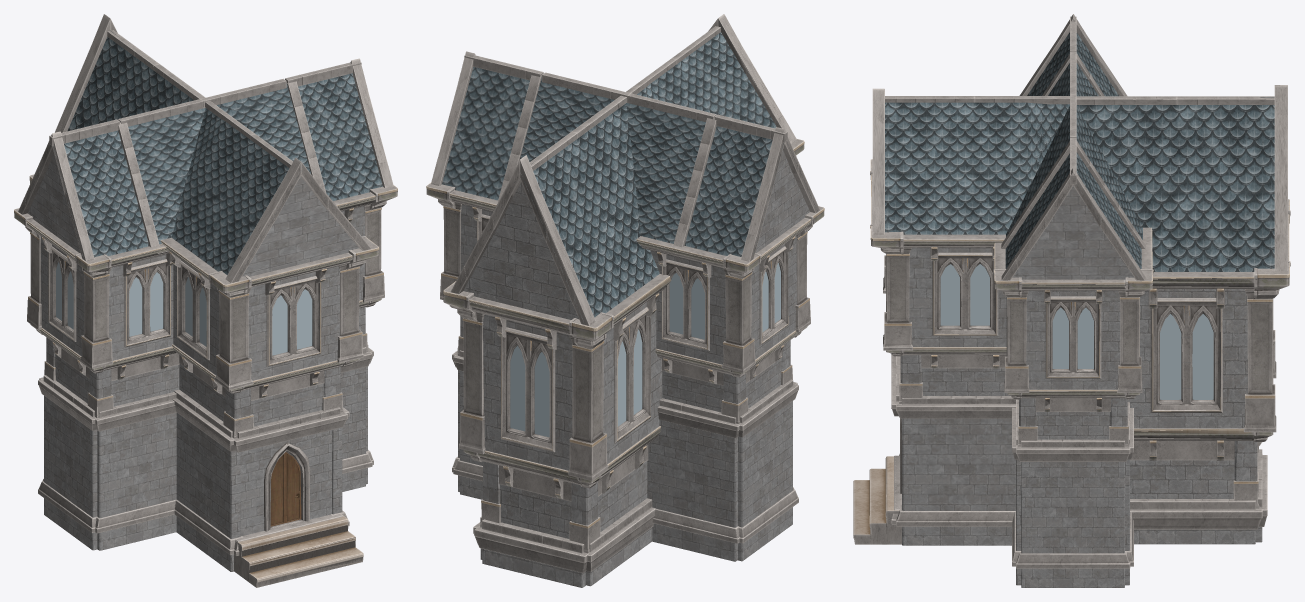
The model's file is City_Homes_G.fbx.
The picture shows the model from 3 angles, left to right: view 1: azimuth 30°, elevation 25°; view 2: azimuth 150°, elevation 25°; view 3: azimuth 270°, elevation 25°; orthographic projection. The views are drawn at different scales.
Parts seen in each view (by area): view 1: City_Home_G1, City_Home_G1.001, City_Home_G1.003, City_Home_G1.002; view 2: City_Home_G1, City_Home_G1.001, City_Home_G1.003, City_Home_G1.002; view 3: City_Home_G1, City_Home_G1.001, City_Home_G1.003, City_Home_G1.002.
Part boxes in pixels (bbox=[...]): City_Home_G1: bbox=[14, 14, 397, 582]; City_Home_G1.001: bbox=[14, 20, 397, 582]; City_Home_G1.003: bbox=[14, 42, 397, 587]; City_Home_G1.002: bbox=[14, 18, 397, 579]; City_Home_G1: bbox=[426, 14, 824, 587]; City_Home_G1.001: bbox=[426, 32, 823, 587]; City_Home_G1.003: bbox=[426, 40, 818, 572]; City_Home_G1.002: bbox=[427, 17, 824, 587]; City_Home_G1: bbox=[853, 14, 1290, 587]; City_Home_G1.001: bbox=[853, 32, 1290, 587]; City_Home_G1.003: bbox=[854, 35, 1290, 583]; City_Home_G1.002: bbox=[853, 34, 1290, 587].
Bounding box in the file's own units: 1614 × 2035 × 1866.
